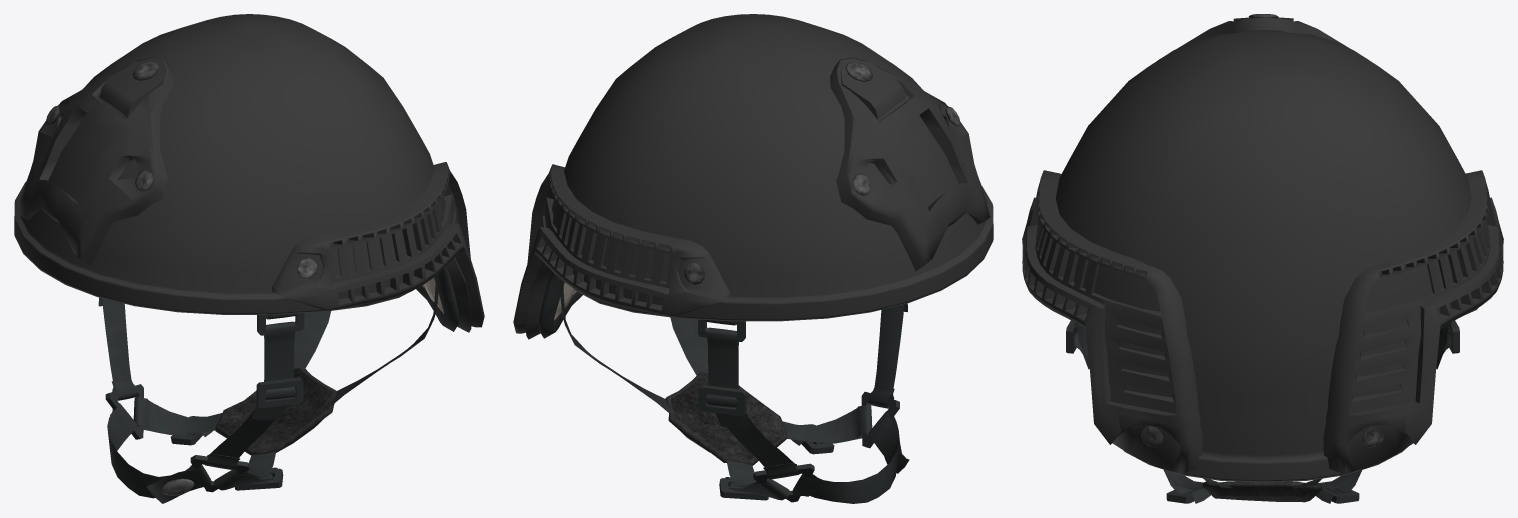
File: casco_c.glb
3 views of the same model, side by side, from view 1: azimuth 30°, elevation 25°; view 2: azimuth 150°, elevation 25°; view 3: azimuth 270°, elevation 25° (orthographic). The views are drawn at different scales.
Visible parts, largest first — view 1: MilitaryHelmet_Mdl_LP; view 2: MilitaryHelmet_Mdl_LP; view 3: MilitaryHelmet_Mdl_LP.
Boxes of the visible parts, box(x1,y1,x2,y2) form: MilitaryHelmet_Mdl_LP: box(14, 14, 484, 503); MilitaryHelmet_Mdl_LP: box(513, 14, 993, 503); MilitaryHelmet_Mdl_LP: box(1022, 14, 1503, 503).
Size of the model in its own units: 8.11 by 8.27 by 7.95.
1 material, 1 textured.
